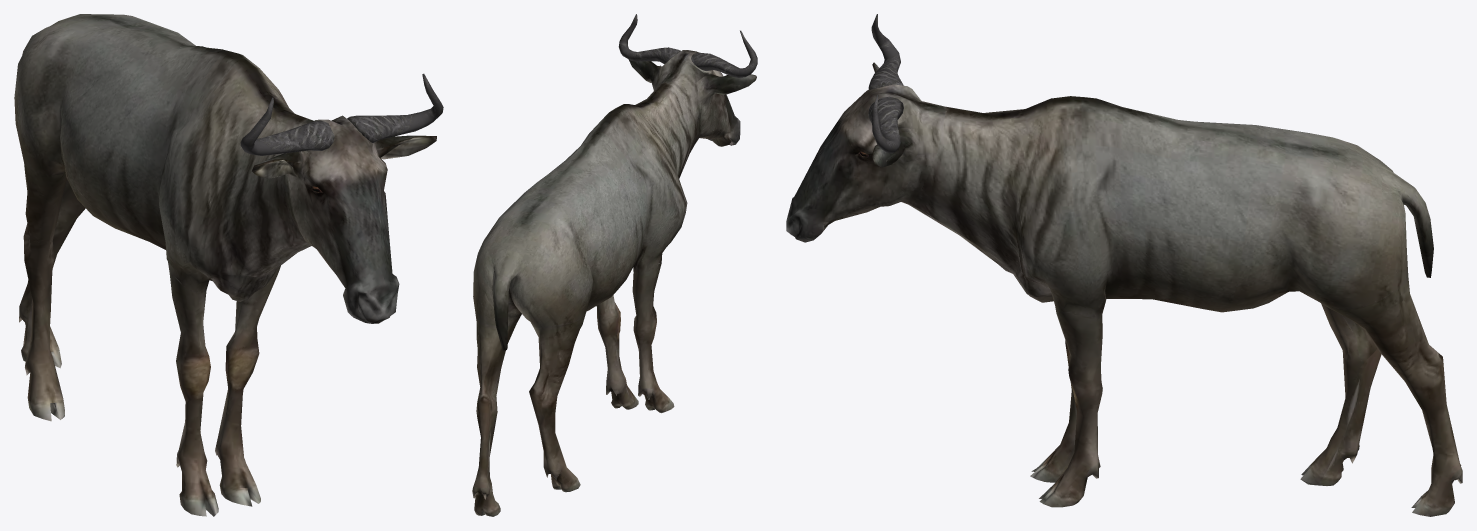
Rendered from wildebeest.glb.
3 renders of one model, left to right at view 1: azimuth 30°, elevation 25°; view 2: azimuth 150°, elevation 25°; view 3: azimuth 270°, elevation 25°, orthographic. The views are drawn at different scales.
Parts seen in each view (by area): view 1: Gnou001_applied_clean_M_Wildebeest_0_M_Wildebeest_0, Gnou001_applied_clean_Gnou_Antlerpng_0_Gnou_Antlerpng_0; view 2: Gnou001_applied_clean_M_Wildebeest_0_M_Wildebeest_0, Gnou001_applied_clean_Gnou_Antlerpng_0_Gnou_Antlerpng_0; view 3: Gnou001_applied_clean_M_Wildebeest_0_M_Wildebeest_0, Gnou001_applied_clean_Gnou_Antlerpng_0_Gnou_Antlerpng_0.
Part boxes in pixels (x1,y1,x2,y2): Gnou001_applied_clean_M_Wildebeest_0_M_Wildebeest_0: (14,14,436,516); Gnou001_applied_clean_Gnou_Antlerpng_0_Gnou_Antlerpng_0: (240,73,443,155); Gnou001_applied_clean_M_Wildebeest_0_M_Wildebeest_0: (472,50,756,516); Gnou001_applied_clean_Gnou_Antlerpng_0_Gnou_Antlerpng_0: (618,14,757,77); Gnou001_applied_clean_M_Wildebeest_0_M_Wildebeest_0: (786,62,1462,516); Gnou001_applied_clean_Gnou_Antlerpng_0_Gnou_Antlerpng_0: (868,14,903,153).
Bounding box in the file's own units: 0.7613 × 1.83 × 2.41.
Materials: 2 (2 with a texture image).
